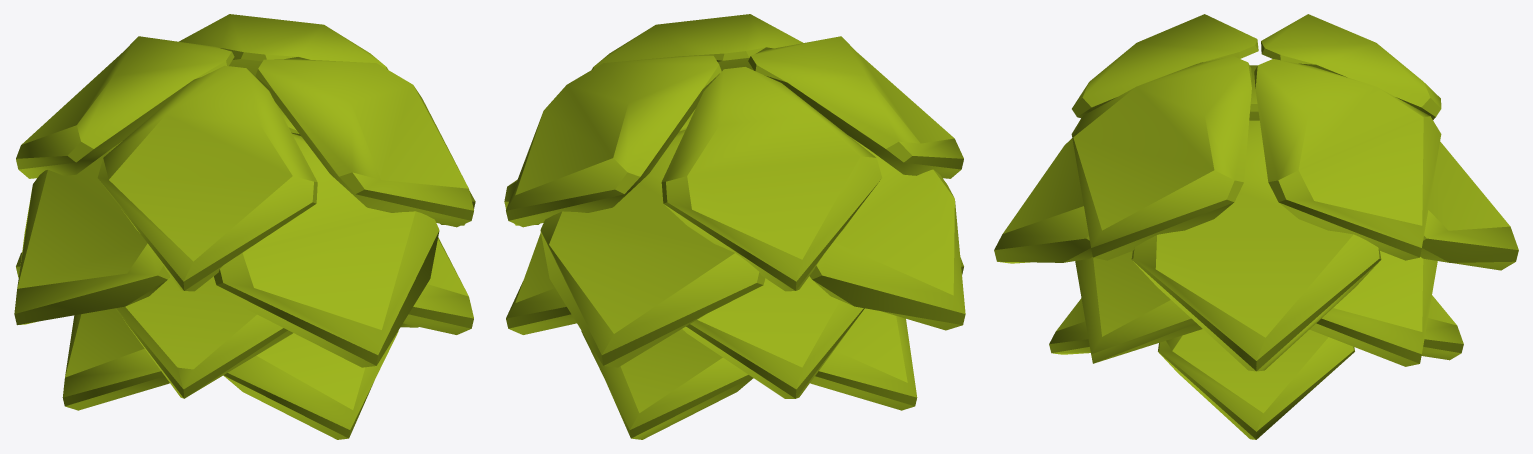
The model's file is bush-b.glb.
The picture shows the model from 3 angles, left to right: view 1: azimuth 30°, elevation 25°; view 2: azimuth 150°, elevation 25°; view 3: azimuth 270°, elevation 25°; orthographic projection.
Parts seen in each view (by area): view 1: Bush; view 2: Bush; view 3: Bush.
Part boxes in pixels (x1=…): Bush: x1=14, y1=14, x2=475, y2=439; Bush: x1=504, y1=14, x2=965, y2=439; Bush: x1=994, y1=14, x2=1518, y2=439.
Bounding box in the file's own units: 3.09 × 1.96 × 3.09.
Materials: 1 (1 with a texture image).
